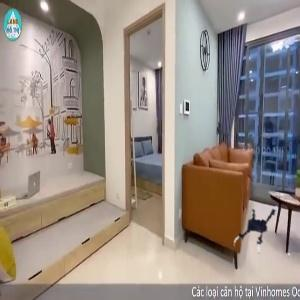drone: (229, 201, 292, 264)
